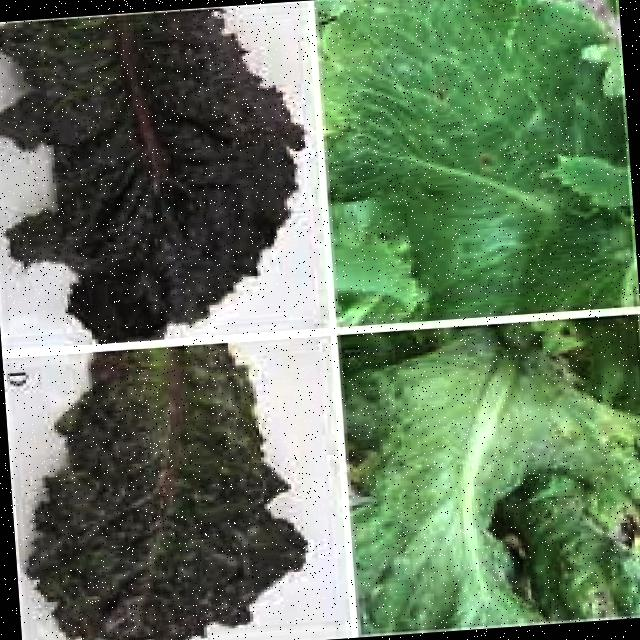Powdery_mildew_on_lettuce: (400, 9, 590, 302), (366, 358, 570, 618), (60, 22, 238, 299), (84, 351, 248, 627)
